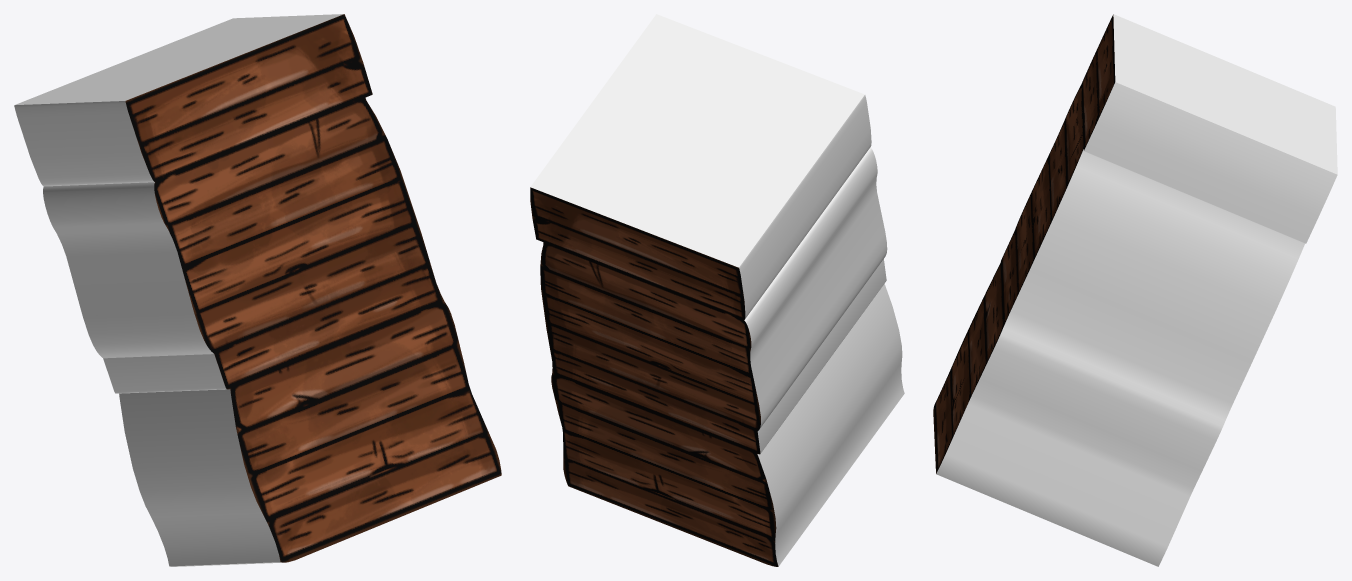
File: Deck.dae
The picture shows the model from 3 angles, left to right: view 1: azimuth 30°, elevation 25°; view 2: azimuth 150°, elevation 25°; view 3: azimuth 270°, elevation 25°; orthographic projection. The views are drawn at different scales.
Parts seen in each view (by area): view 1: Camada_1; view 2: Camada_1; view 3: Camada_1.
Part boxes in pixels (x1,y1,x2,y2): Camada_1: [14, 14, 501, 566]; Camada_1: [530, 14, 904, 566]; Camada_1: [933, 14, 1337, 566].
Bounding box in the file's own units: 99.8 × 175 × 132.
Materials: 3 (3 with a texture image).
